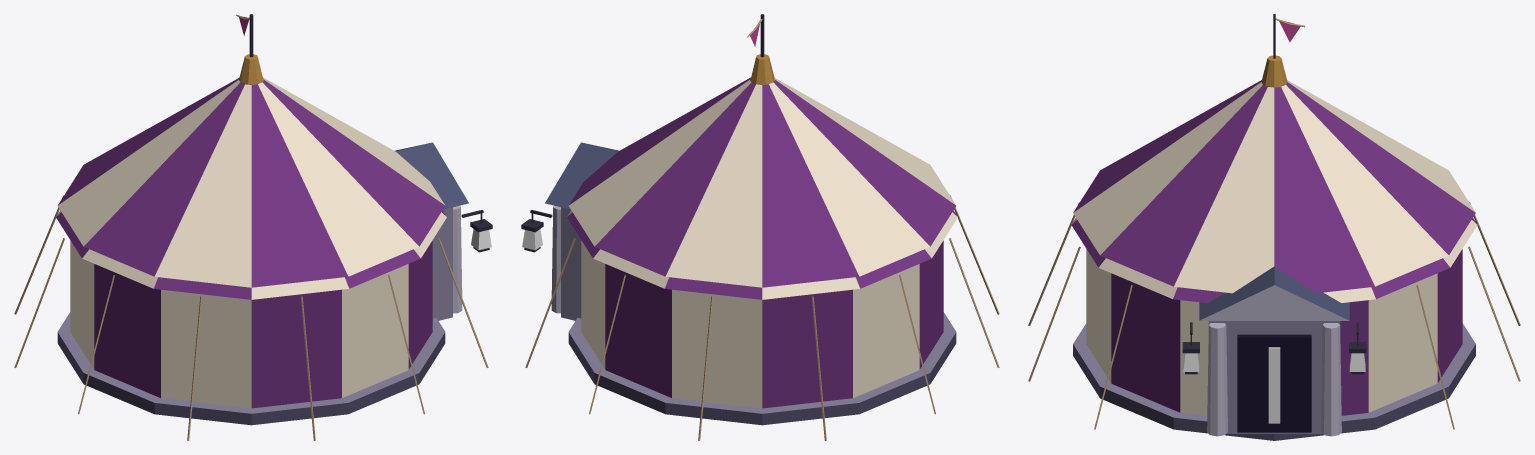
File: Fair_TentCrypt.fbx
3 renders of one model, left to right at view 1: azimuth 30°, elevation 25°; view 2: azimuth 150°, elevation 25°; view 3: azimuth 270°, elevation 25°, orthographic. The views are drawn at different scales.
Visible parts, largest first — view 1: Fair_TentCrypt; view 2: Fair_TentCrypt; view 3: Fair_TentCrypt.
Part boxes in pixels (x1,y1,x2,y2): Fair_TentCrypt: [14, 14, 492, 440]; Fair_TentCrypt: [521, 14, 999, 440]; Fair_TentCrypt: [1028, 14, 1520, 440].
Size of what is drawn, in the model's own units: 11.02 by 8.6 by 11.25.
Materials: 2 (1 with a texture image).
